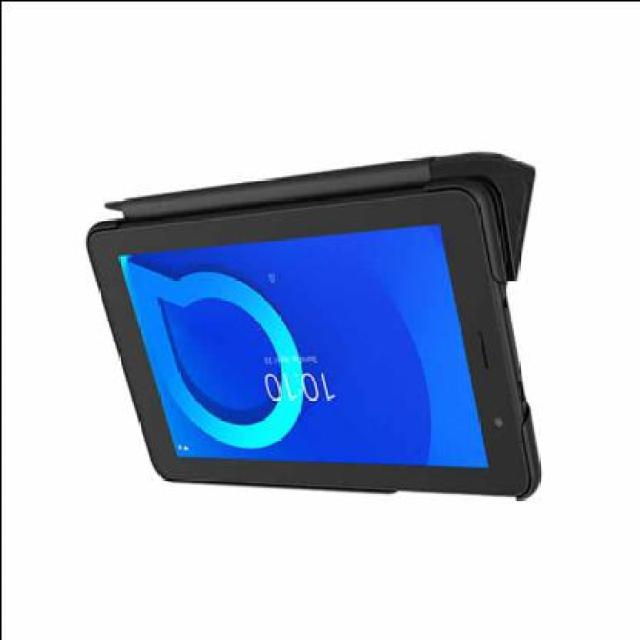tablet: (77, 121, 589, 536)
